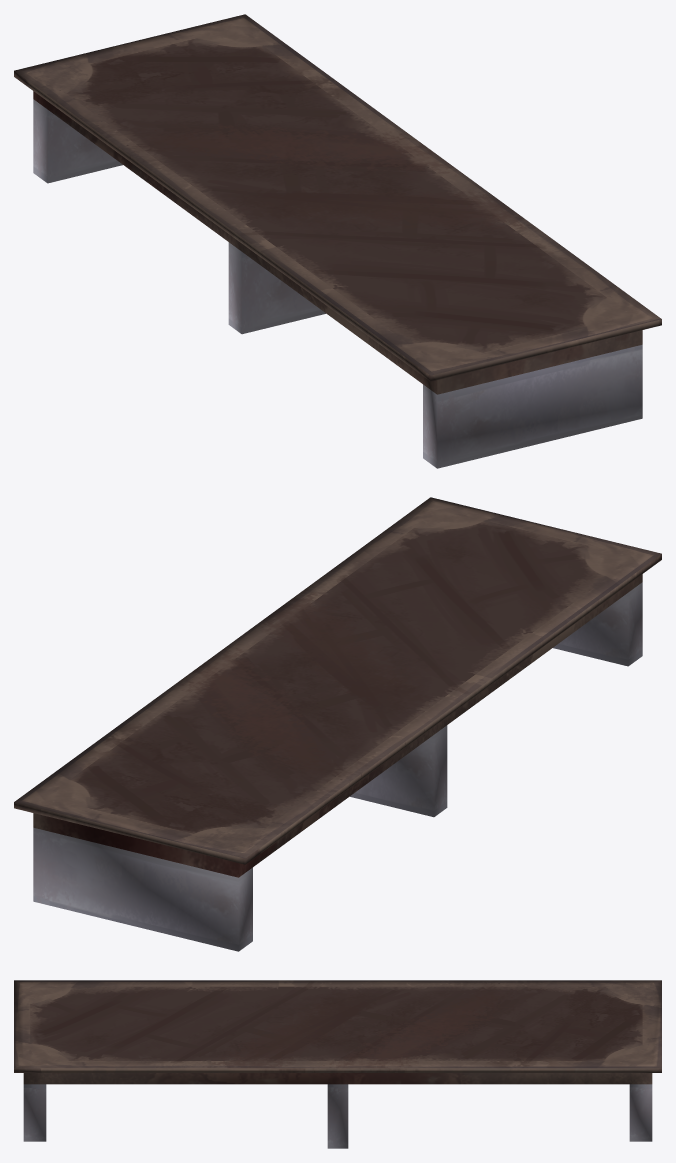
File: MesonRecLargo.obj
The picture shows the model from 3 angles, top to bottom: view 1: azimuth 30°, elevation 25°; view 2: azimuth 150°, elevation 25°; view 3: azimuth 270°, elevation 25°; orthographic projection. The views are drawn at different scales.
Visible parts, largest first — view 1: MesgonLargo; view 2: MesgonLargo; view 3: MesgonLargo.
Boxes of the visible parts, x1,y1,x2,y2 form: MesgonLargo: (14,14,661,468); MesgonLargo: (14,497,661,951); MesgonLargo: (14,980,661,1148).
Bounding box in the file's own units: 2.11 × 0.954 × 6.58.
1 material, 1 textured.
